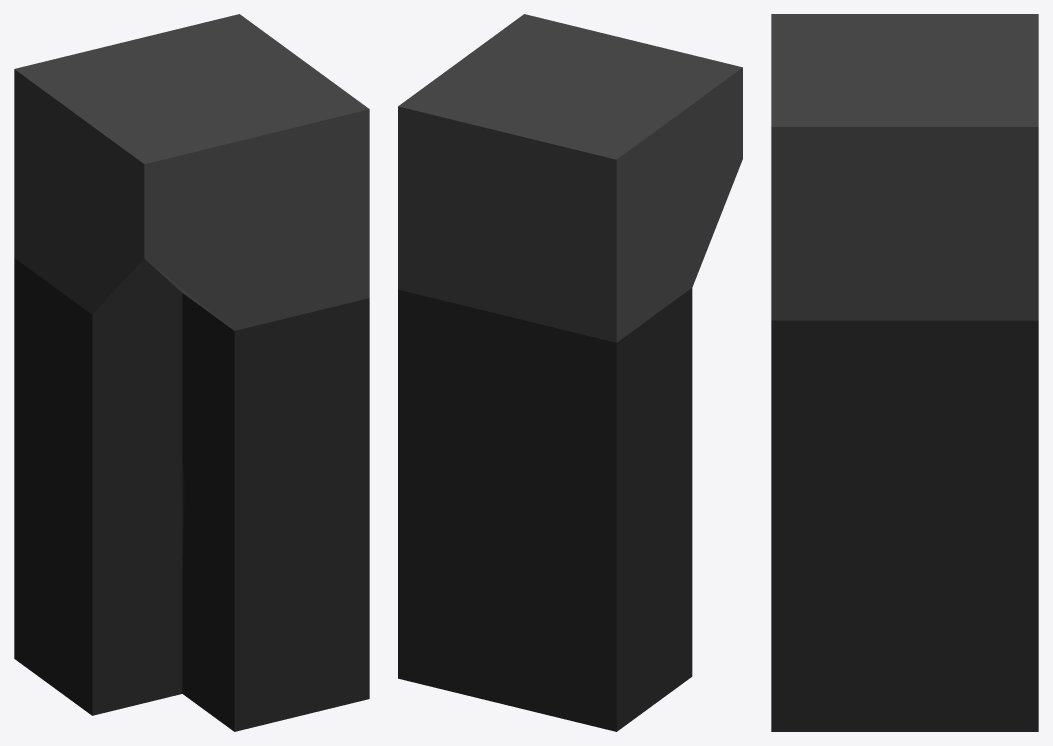
Rendered from SW_ENV_RailTunnel_Wall_Ledge_A_Crnr_Inner.fbx.
3 renders of one model, left to right at view 1: azimuth 30°, elevation 25°; view 2: azimuth 150°, elevation 25°; view 3: azimuth 270°, elevation 25°, orthographic. The views are drawn at different scales.
Parts seen in each view (by area): view 1: SW_ENV_RailTunnel_Wall_Ledge_A_Crnr_Inner; view 2: SW_ENV_RailTunnel_Wall_Ledge_A_Crnr_Inner; view 3: SW_ENV_RailTunnel_Wall_Ledge_A_Crnr_Inner.
Part boxes in pixels (bbox=[...]): SW_ENV_RailTunnel_Wall_Ledge_A_Crnr_Inner: bbox=[14, 14, 369, 731]; SW_ENV_RailTunnel_Wall_Ledge_A_Crnr_Inner: bbox=[398, 14, 742, 731]; SW_ENV_RailTunnel_Wall_Ledge_A_Crnr_Inner: bbox=[771, 14, 1038, 731].
Size of the model in its own units: 0.5 by 1.25 by 0.5.
